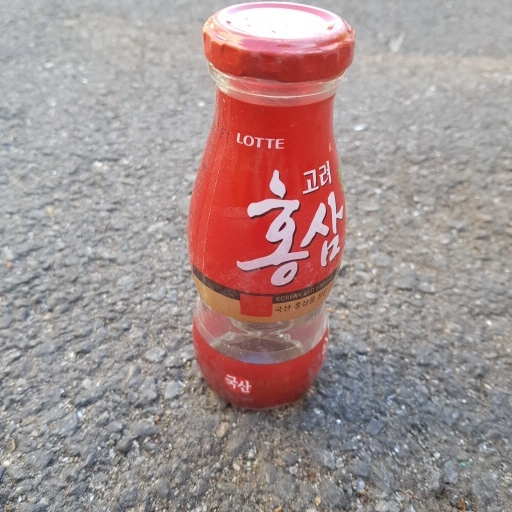Glass_4: (185, 3, 358, 410)
